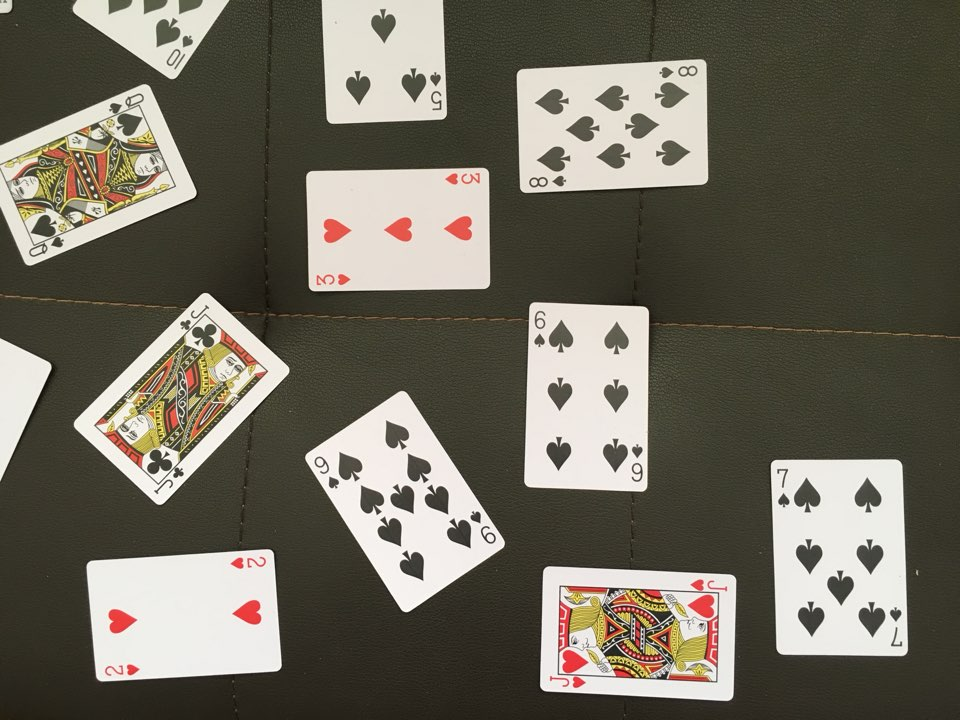jack: (62, 281, 296, 513), (527, 558, 752, 707)
nine: (300, 384, 514, 615)
queen: (1, 79, 204, 271)
ten: (69, 1, 247, 89)
